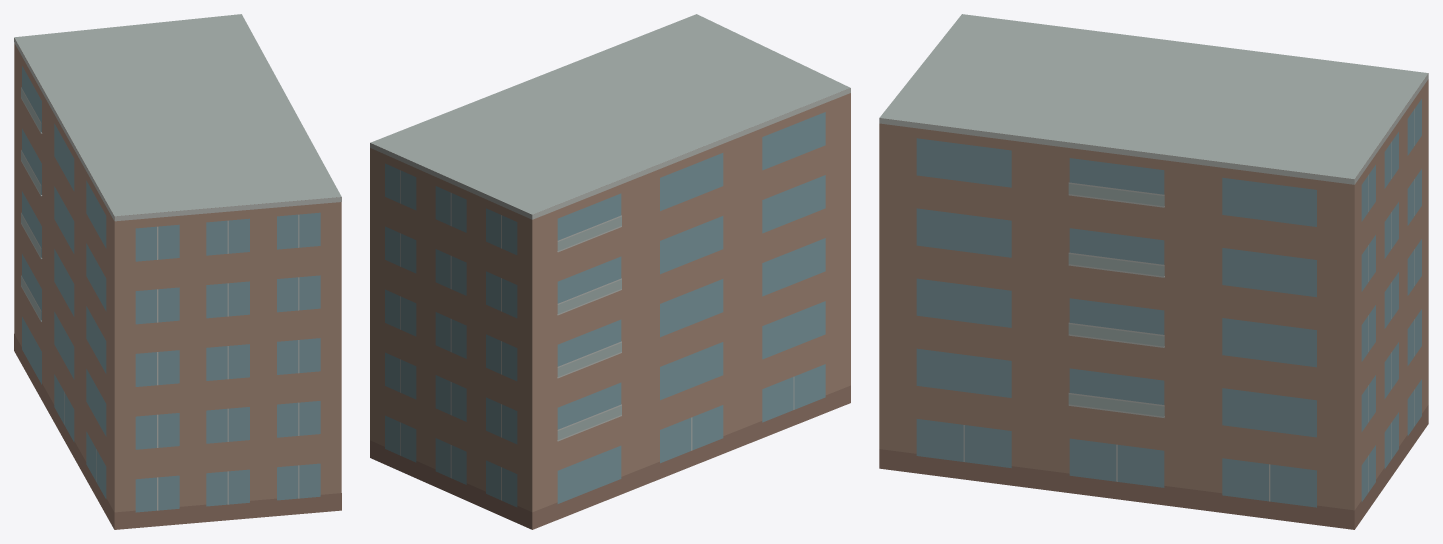
The model's file is survey-upis-32937295.glb.
3 renders of one model, left to right at view 1: azimuth 30°, elevation 25°; view 2: azimuth 150°, elevation 25°; view 3: azimuth 270°, elevation 25°, orthographic. The views are drawn at different scales.
Visible parts, largest first — view 1: survey-upis-32937295.tmp; view 2: survey-upis-32937295.tmp; view 3: survey-upis-32937295.tmp.
Boxes of the visible parts, x1=… form: survey-upis-32937295.tmp: x1=14, y1=14, x2=341, y2=529; survey-upis-32937295.tmp: x1=370, y1=14, x2=850, y2=529; survey-upis-32937295.tmp: x1=879, y1=14, x2=1428, y2=529.
Bounding box in the file's own units: 15.47 × 15.3 × 21.73.
